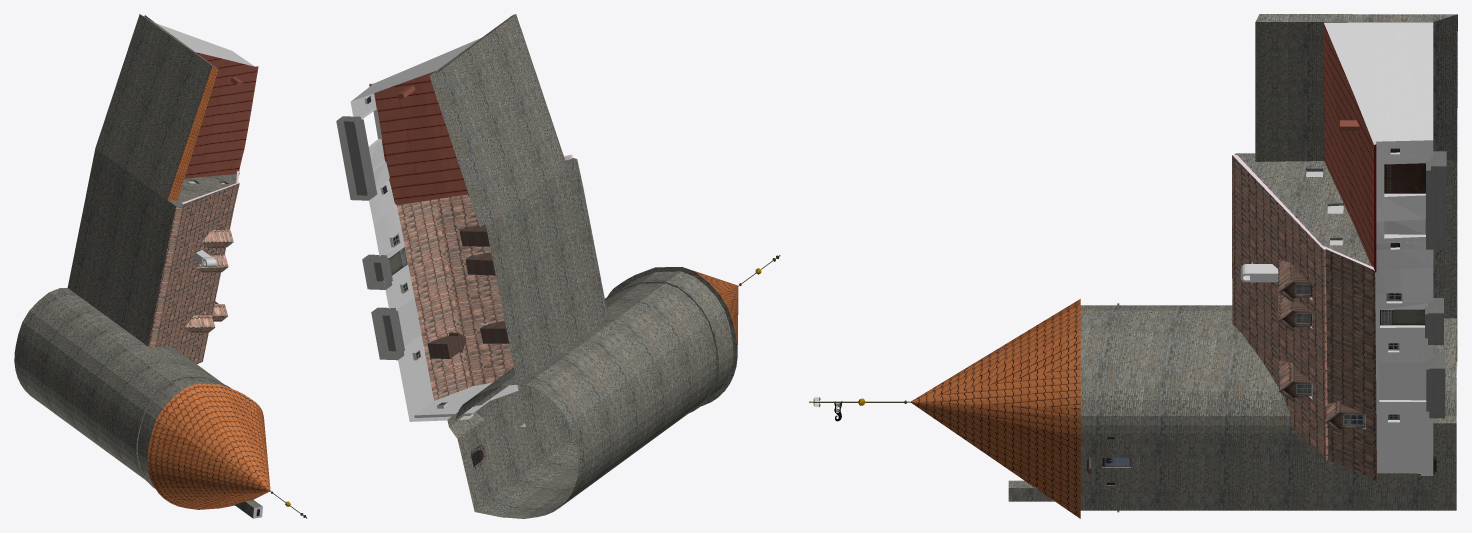
File: Kooli_1a.obj
3 renders of one model, left to right at view 1: azimuth 30°, elevation 25°; view 2: azimuth 150°, elevation 25°; view 3: azimuth 270°, elevation 25°, orthographic. The views are drawn at different scales.
Parts seen in each view (by area): view 1: Kooli_1a; view 2: Kooli_1a; view 3: Kooli_1a.
Part boxes in pixels (x1,y1,x2,y2): Kooli_1a: (14, 14, 306, 518); Kooli_1a: (336, 14, 780, 518); Kooli_1a: (809, 14, 1457, 518).
Bounding box in the file's own units: 22.01 × 36.43 × 40.71.
